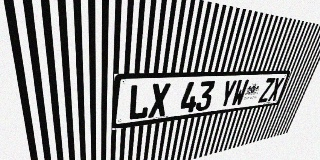3: (195, 81, 216, 112)
4: (179, 81, 201, 114)
L: (127, 84, 151, 121)
W: (230, 79, 249, 107)
X: (148, 83, 171, 118), (267, 77, 284, 102)
Y: (218, 80, 238, 108)
Z: (258, 78, 276, 103)
